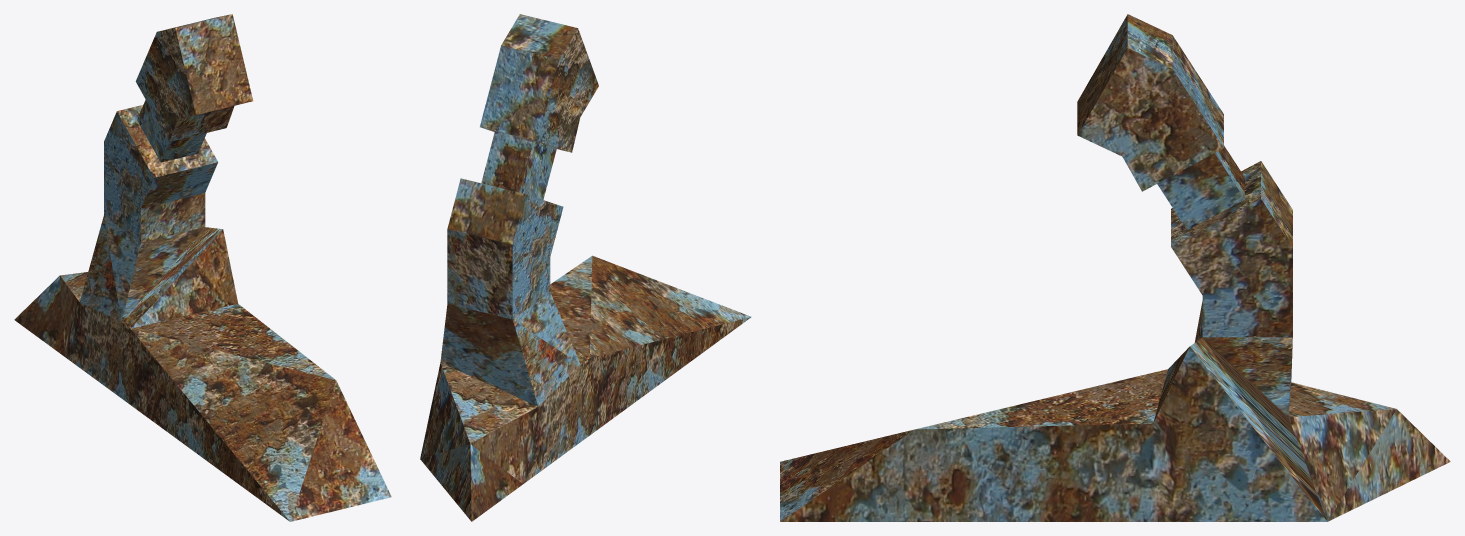
Rendered from muro3.fbx.
The picture shows the model from 3 angles, left to right: view 1: azimuth 30°, elevation 25°; view 2: azimuth 150°, elevation 25°; view 3: azimuth 270°, elevation 25°; orthographic projection. The views are drawn at different scales.
Parts seen in each view (by area): view 1: Camera_001; view 2: Camera_001; view 3: Camera_001.
Part boxes in pixels (x1,y1,x2,y2): Camera_001: (14,14,391,521); Camera_001: (420,14,751,521); Camera_001: (780,14,1450,521).
Bounding box in the file's own units: 0.9464 × 3.4 × 4.45.
Materials: 2 (1 with a texture image).
